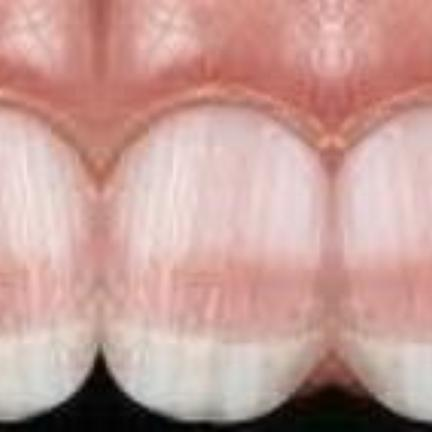Nail: (99, 105, 329, 422), (0, 105, 99, 421), (335, 105, 432, 422)
